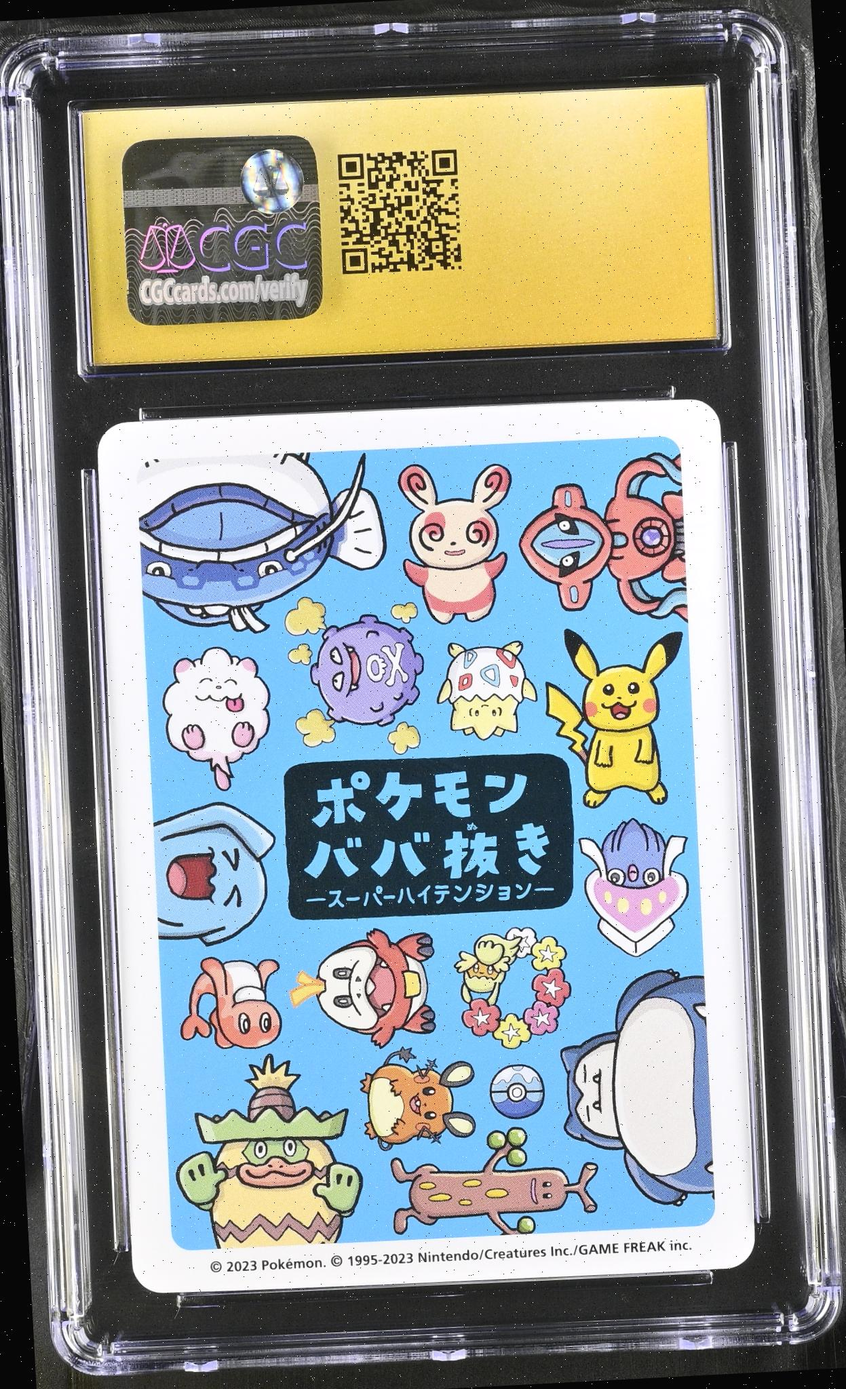card-2UtV: (97, 399, 755, 1293)
